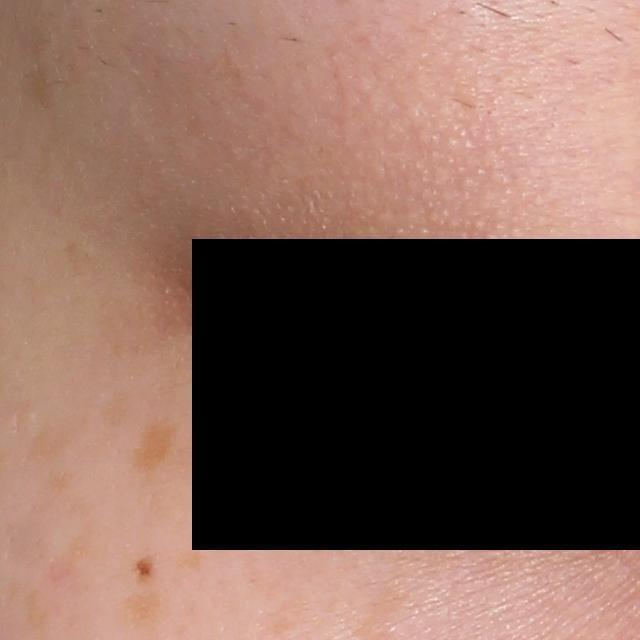melasma: (24, 417, 87, 472), (134, 422, 174, 471), (121, 590, 169, 627), (175, 546, 211, 578)
nevus: (136, 556, 151, 577)
